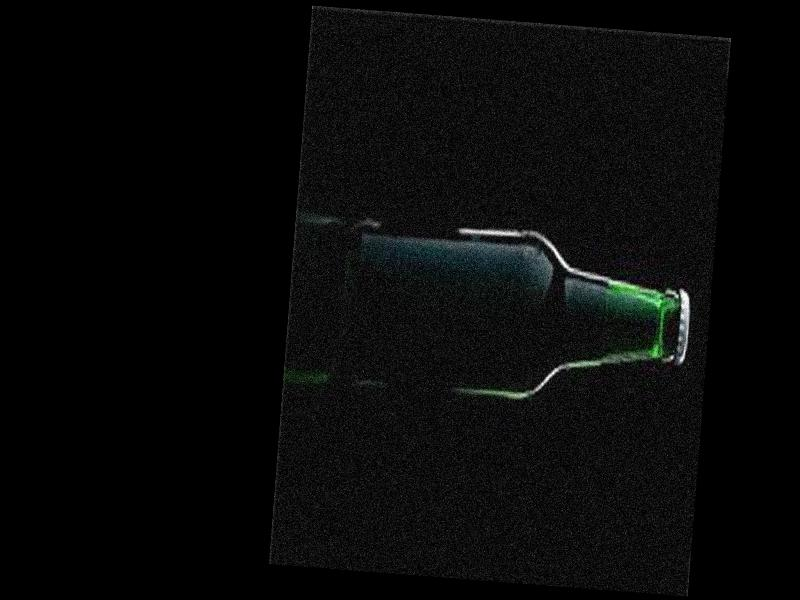Beer: (342, 211, 696, 411)
